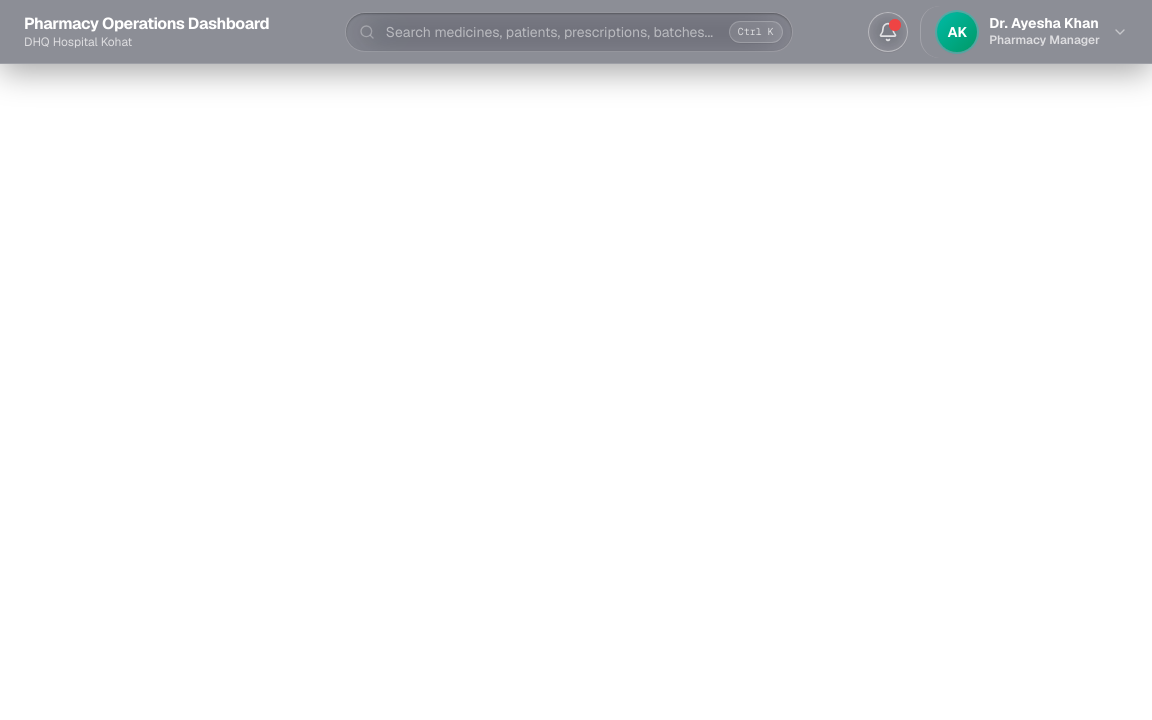
Test case: Header Component › opens and closes notifications panel on click
Click the button named "open notifications" at (888, 32), box [868,12,908,52]
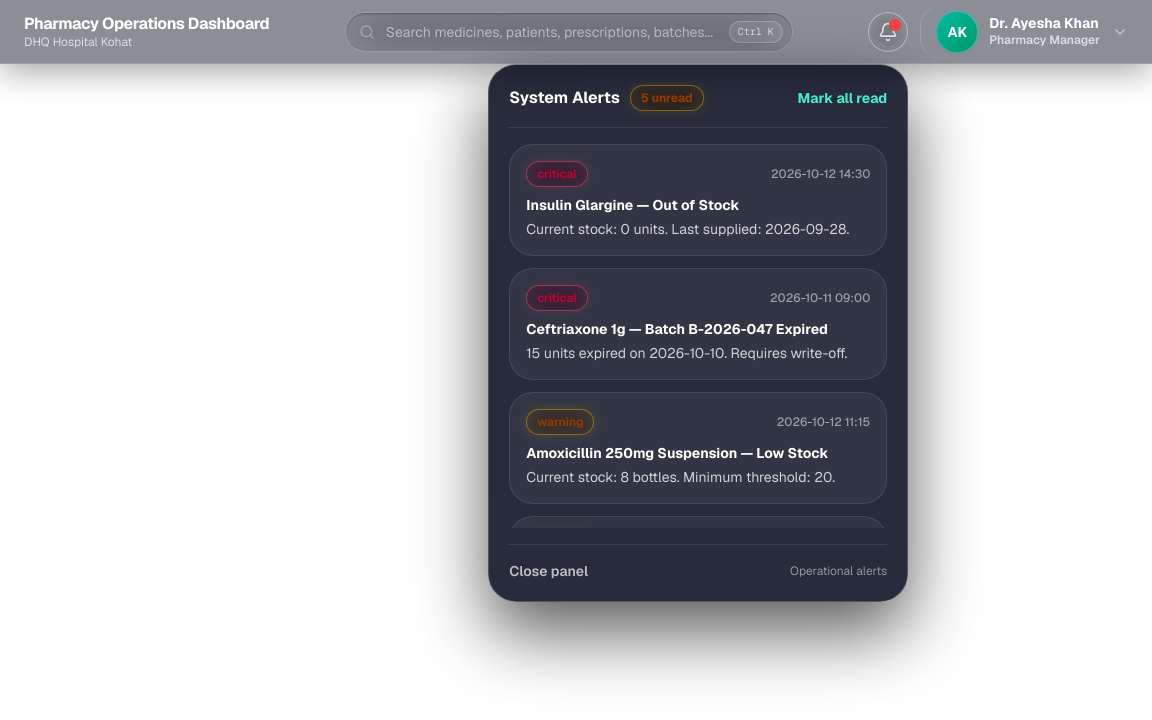
Result: the heading "System Alerts" is shown at [509,86,620,110]
Click the button "Close panel" at (549, 570), box [509,560,588,580]
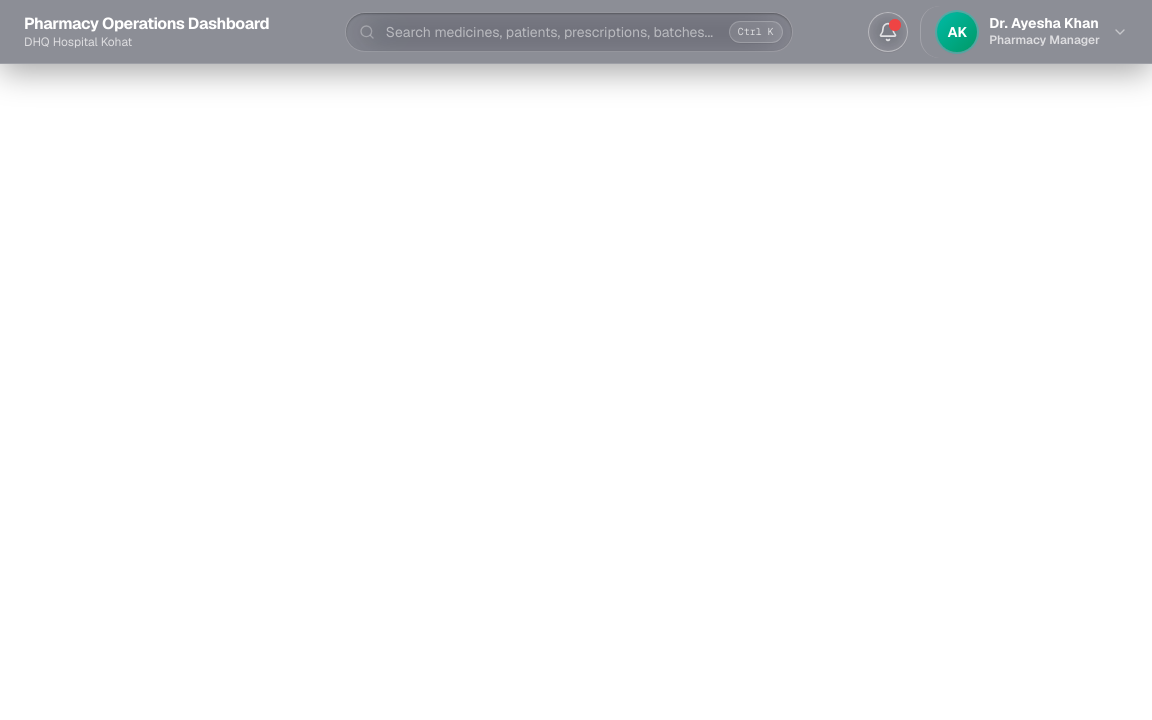
Result: the heading "System Alerts" is gone
